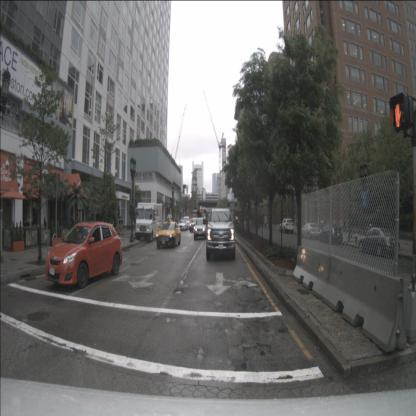movable_object-barrier: (322, 255, 407, 362), (293, 245, 332, 302)
vehicle-bus-rigid: (196, 208, 208, 226)
vehicle-car: (44, 221, 123, 288), (358, 227, 400, 259), (156, 221, 181, 248), (319, 222, 343, 245), (300, 223, 320, 239), (194, 218, 208, 240), (279, 218, 294, 233), (189, 218, 199, 232), (182, 216, 191, 229), (178, 219, 187, 231), (232, 216, 240, 227)
vehicle-truck: (206, 208, 236, 259), (135, 202, 163, 240)
